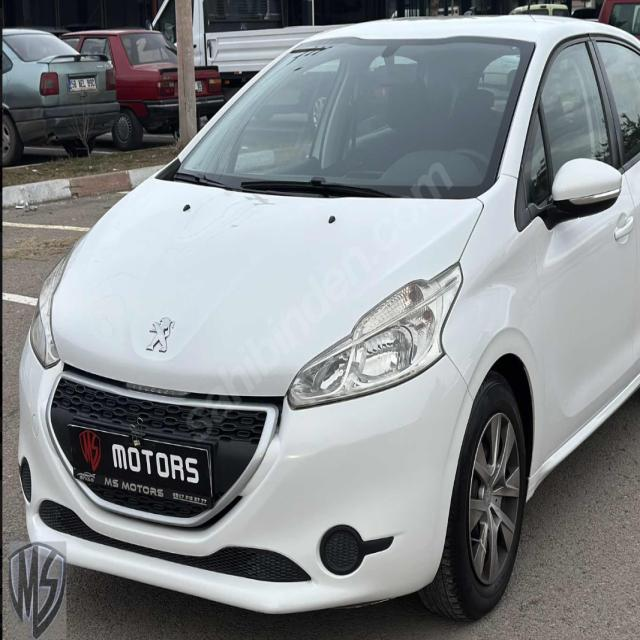pegout: (144, 312, 180, 361)
